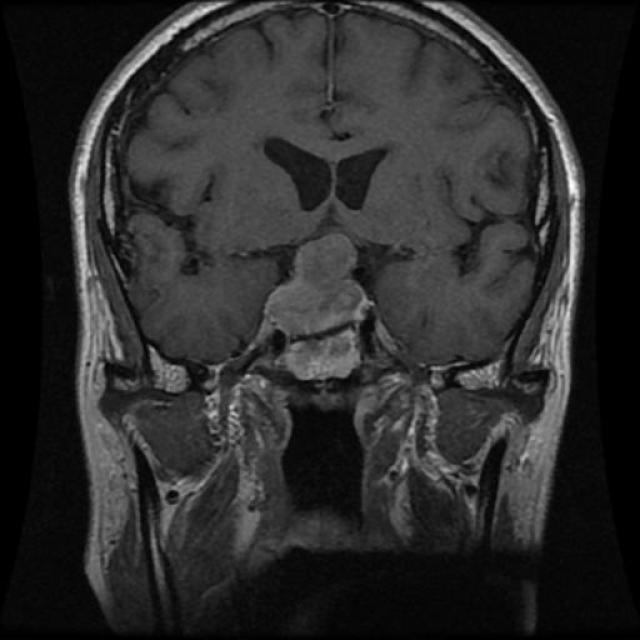pituitary: (260, 226, 378, 386)
